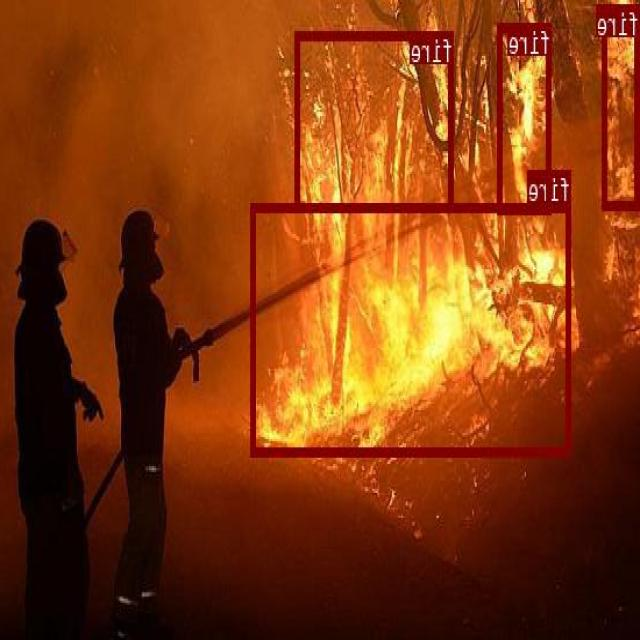fire: (252, 203, 572, 454), (296, 30, 454, 210), (498, 21, 552, 212), (603, 3, 640, 208)
